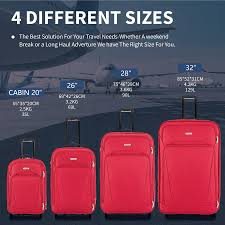suitcase: (157, 96, 223, 219), (100, 110, 156, 218), (51, 120, 96, 214), (6, 140, 48, 215)
